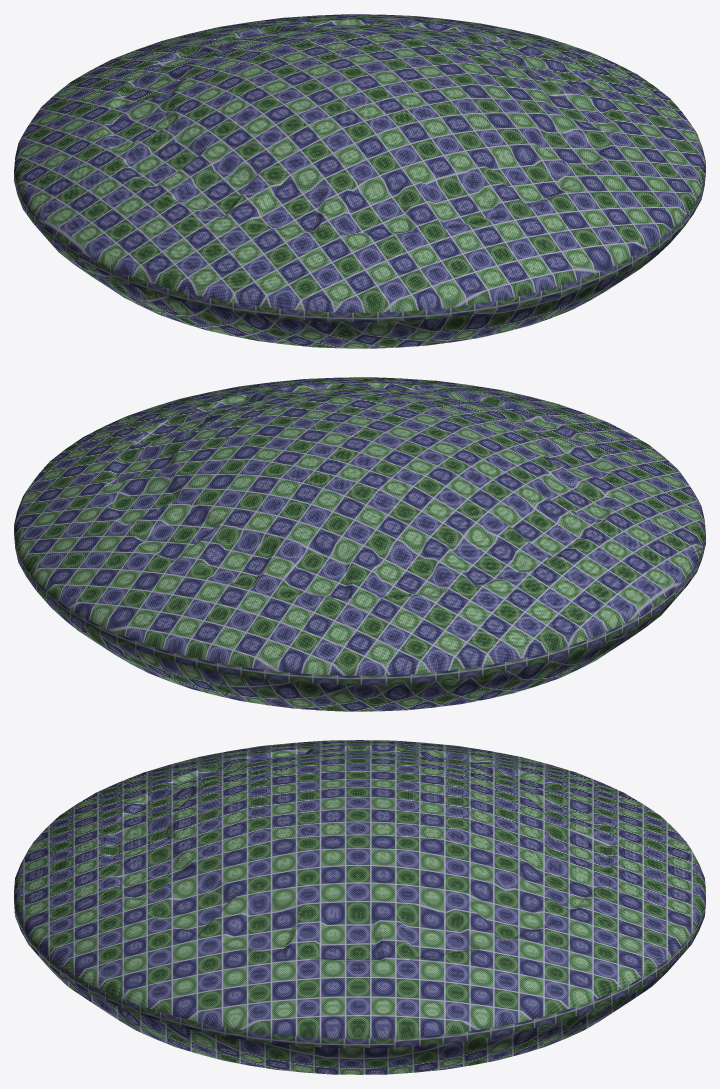
Rendered from Ufo.FBX.
3 renders of one model, top to bottom at view 1: azimuth 30°, elevation 25°; view 2: azimuth 150°, elevation 25°; view 3: azimuth 270°, elevation 25°, orthographic.
Visible parts, largest first — view 1: Cylinder001; view 2: Cylinder001; view 3: Cylinder001.
Part boxes in pixels (<box>): Cylinder001: <box>14,14,705,348</box>; Cylinder001: <box>14,377,705,711</box>; Cylinder001: <box>14,740,705,1074</box>.
Size of the model in its own units: 94.92 by 23.67 by 94.92.
